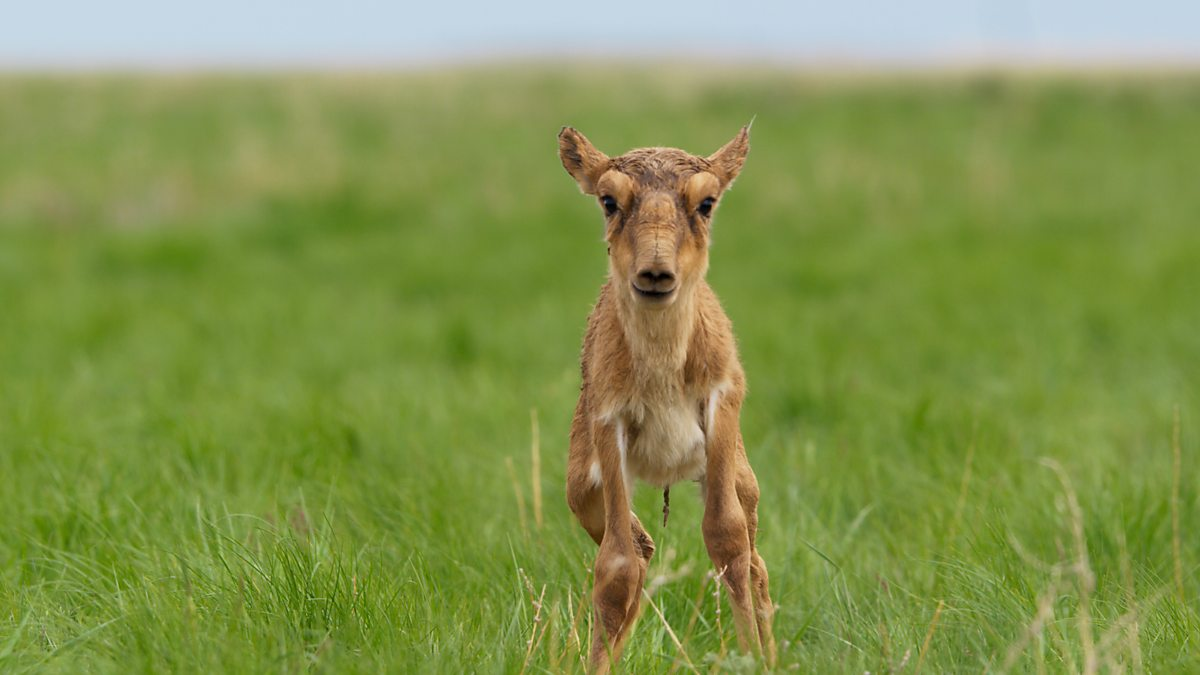saiga: (555, 122, 796, 665)
